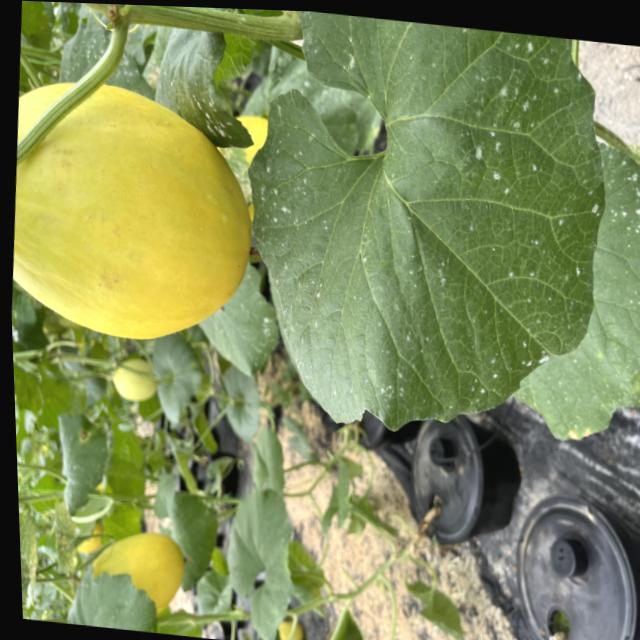powdery mildew: (231, 9, 621, 463)
